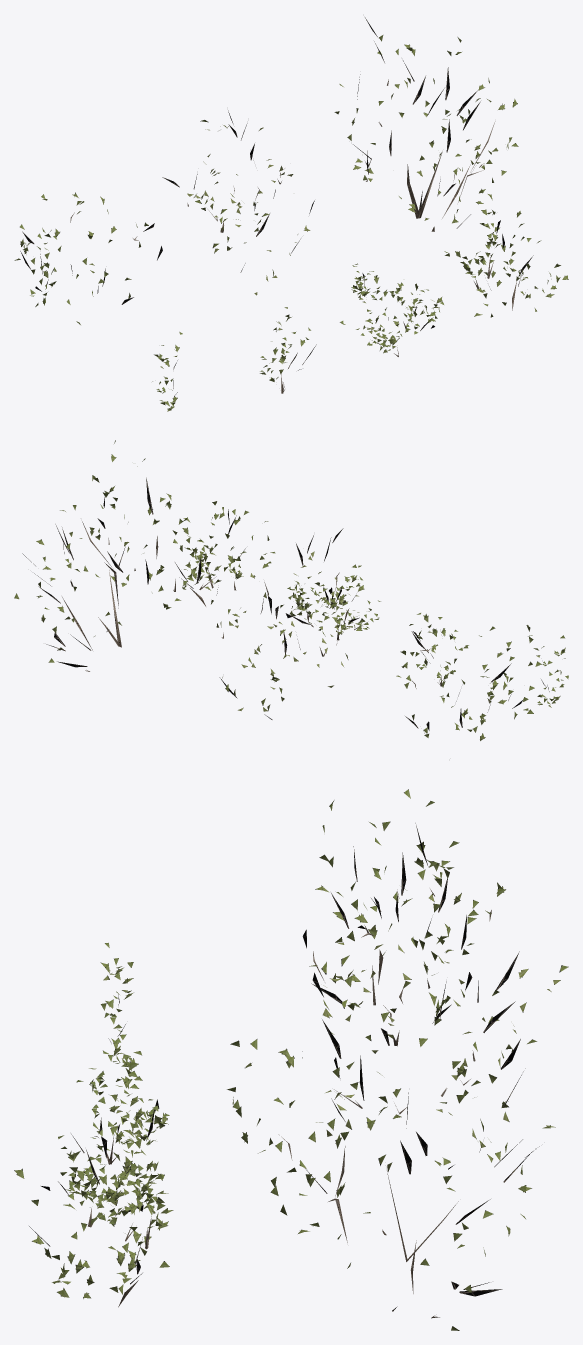
File: bush.glb
3 views of the same model, one above another, from view 1: azimuth 30°, elevation 25°; view 2: azimuth 150°, elevation 25°; view 3: azimuth 270°, elevation 25° (orthographic). The views are drawn at different scales.
Parts seen in each view (by area): view 1: searsia_lucida_a_LOD0, searsia_lucida_e_LOD0, searsia_lucida_d_LOD0, searsia_lucida_c_LOD0, searsia_lucida_b_LOD0; view 2: searsia_lucida_a_LOD0, searsia_lucida_e_LOD0, searsia_lucida_d_LOD0, searsia_lucida_b_LOD0, searsia_lucida_c_LOD0, searsia_lucida_f_LOD0; view 3: searsia_lucida_a_LOD0, searsia_lucida_d_LOD0, searsia_lucida_e_LOD0, searsia_lucida_c_LOD0, searsia_lucida_b_LOD0, searsia_lucida_f_LOD0, searsia_lucida_g_LOD0.
Boxes of the visible parts, box(x1,y1,x2,y2) form: searsia_lucida_a_LOD0: box(334, 17, 518, 231); searsia_lucida_e_LOD0: box(340, 263, 443, 356); searsia_lucida_d_LOD0: box(444, 194, 568, 317); searsia_lucida_c_LOD0: box(14, 192, 162, 324); searsia_lucida_b_LOD0: box(162, 110, 314, 295); searsia_lucida_a_LOD0: box(14, 440, 246, 671); searsia_lucida_e_LOD0: box(280, 564, 380, 640); searsia_lucida_d_LOD0: box(173, 501, 275, 616); searsia_lucida_b_LOD0: box(216, 528, 359, 719); searsia_lucida_c_LOD0: box(396, 625, 541, 740); searsia_lucida_f_LOD0: box(409, 613, 468, 686); searsia_lucida_a_LOD0: box(227, 951, 555, 1330); searsia_lucida_d_LOD0: box(14, 1108, 173, 1307); searsia_lucida_e_LOD0: box(41, 1054, 169, 1227); searsia_lucida_c_LOD0: box(302, 789, 505, 1046); searsia_lucida_b_LOD0: box(309, 846, 568, 1171); searsia_lucida_f_LOD0: box(76, 1051, 148, 1164); searsia_lucida_g_LOD0: box(100, 943, 133, 1066).
Size of the model in its own units: 4.34 by 2.08 by 2.72.
2 materials, 2 textured.
